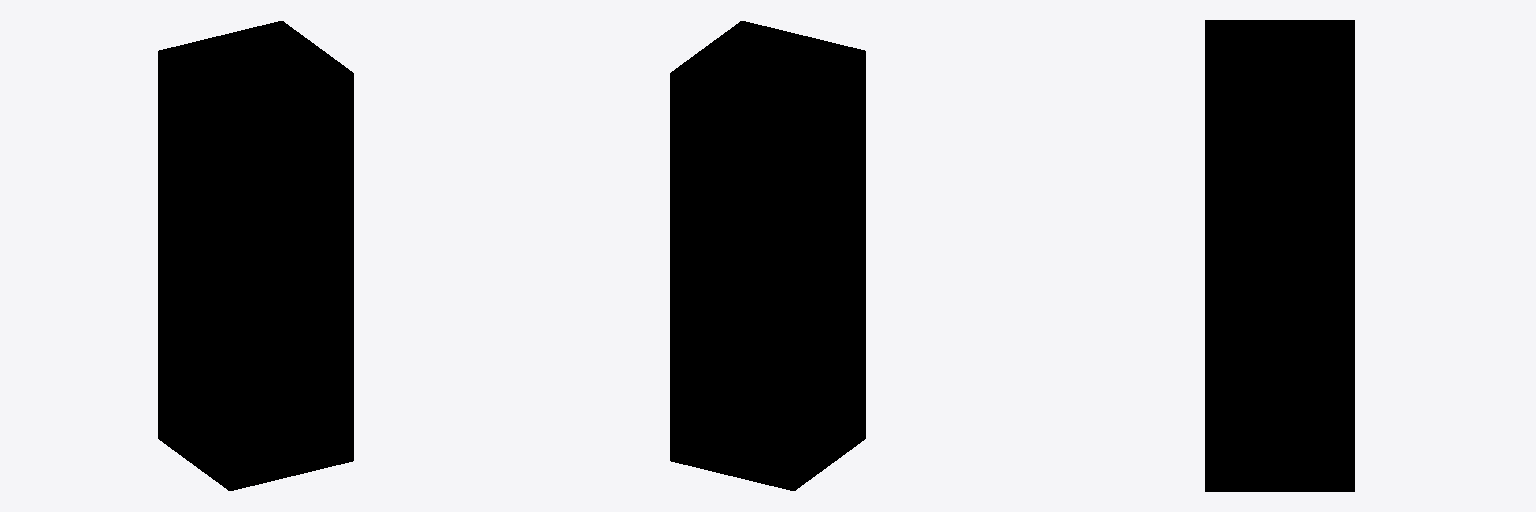
URDF robot description (link_module):
<?xml version="1.0" ?>
<robot name="link_module" xmlns:xacro="http://ros.org/wiki/xacro">
    <material name="blue">
        <color rgba="0 0 0.8 1"/>
    </material>
    <material name="black">
        <color rgba="0 0 0 1"/>
    </material>
    <material name="white">
        <color rgba="1 1 1 1"/>
    </material>
    <link name="base_link">
        <visual>
        <origin rpy = "0 0 0" xyz = "0 0 0"/>
        </visual>
    </link>
    <joint name="fixed" type="fixed">
        <parent link="base_link"/>
        <child link="link_0"/>
        <axis rpy="0 0 0" xyz="0 0 1"/>
        <origin rpy="0.0 0.0 0.0" xyz="0.0 0.0 0.0"/>
    </joint>
    <link name="link_0">
        <visual>
        <origin rpy="0 0 0" xyz="0 0 0.15"/>
        <geometry>
            <box size="0.1 0.1 0.3"/>
        </geometry>
        <material name="black"/>
        </visual>
        <collision>
        <origin rpy="0 0 0" xyz="0 0 0.15"/>
        <geometry>
            <box size="0.1 0.1 0.3"/>
        </geometry>
        </collision>
        <inertial>
        <mass value="1"/>
        <inertia ixx="1.0" ixy="0.0" ixz="0.0" iyy="1.0" iyz="0.0" izz="1.0"/>
        </inertial>
    </link>
</robot>

--- Render facts (derived) ---
Views: 3 orthographic renders of the robot side by side, from view 1: azimuth 30°, elevation 25°; view 2: azimuth 150°, elevation 25°; view 3: azimuth 270°, elevation 25°.
Robot: link_module — 2 links, 1 joints (1 fixed); root link base_link; default pose: every joint at zero.
Visible links, largest first — view 1: link_0; view 2: link_0; view 3: link_0.
Link boxes in pixels (<box>): link_0: <box>158,21,353,490</box>; link_0: <box>670,21,865,490</box>; link_0: <box>1205,20,1354,491</box>.
Bounding box of the posed robot: 0.1 × 0.1 × 0.3 m (x, y, z).
Geometry: primitives only (box / cylinder / sphere), no mesh files.
